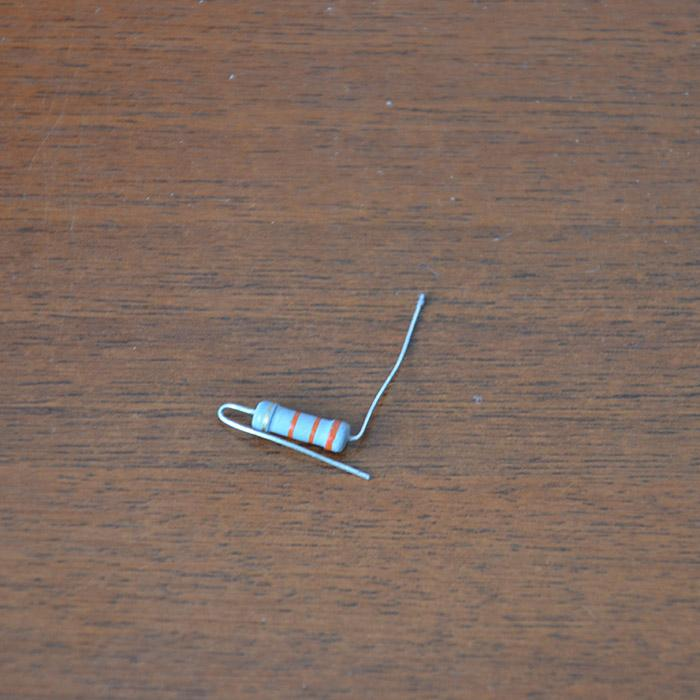resistor: (248, 399, 352, 453)
